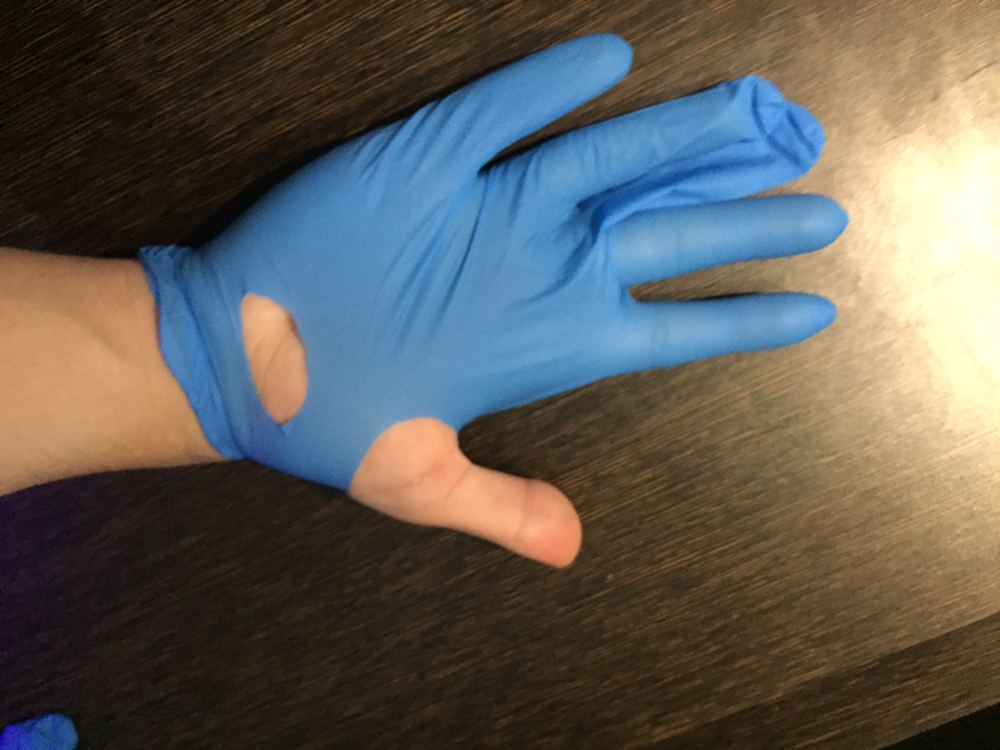defected: (151, 5, 888, 582)
